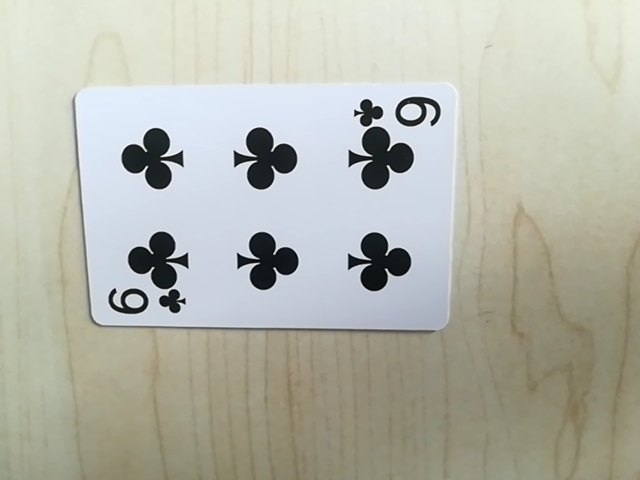mh 6: (351, 91, 443, 130), (102, 286, 186, 324)
